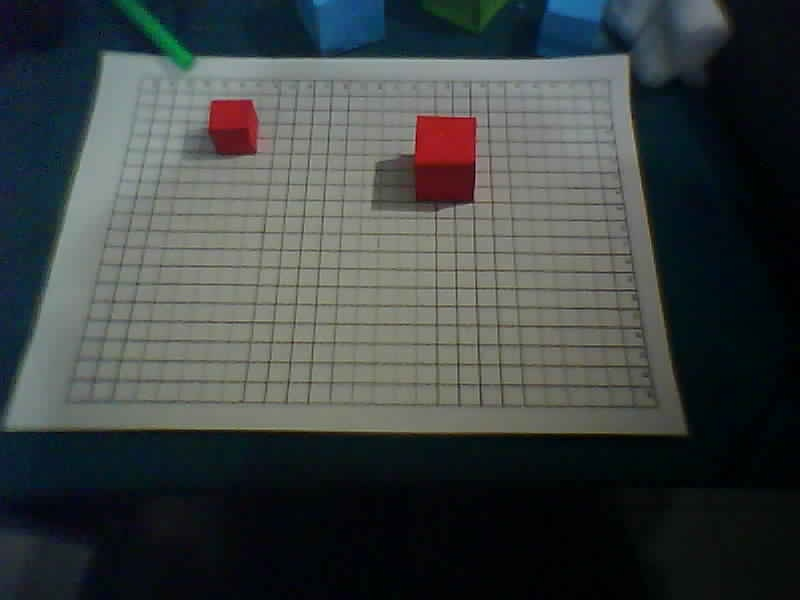LB: (63, 399, 71, 405)
LT: (140, 77, 148, 83)
RB: (654, 403, 662, 409)
RT: (605, 78, 613, 84)
